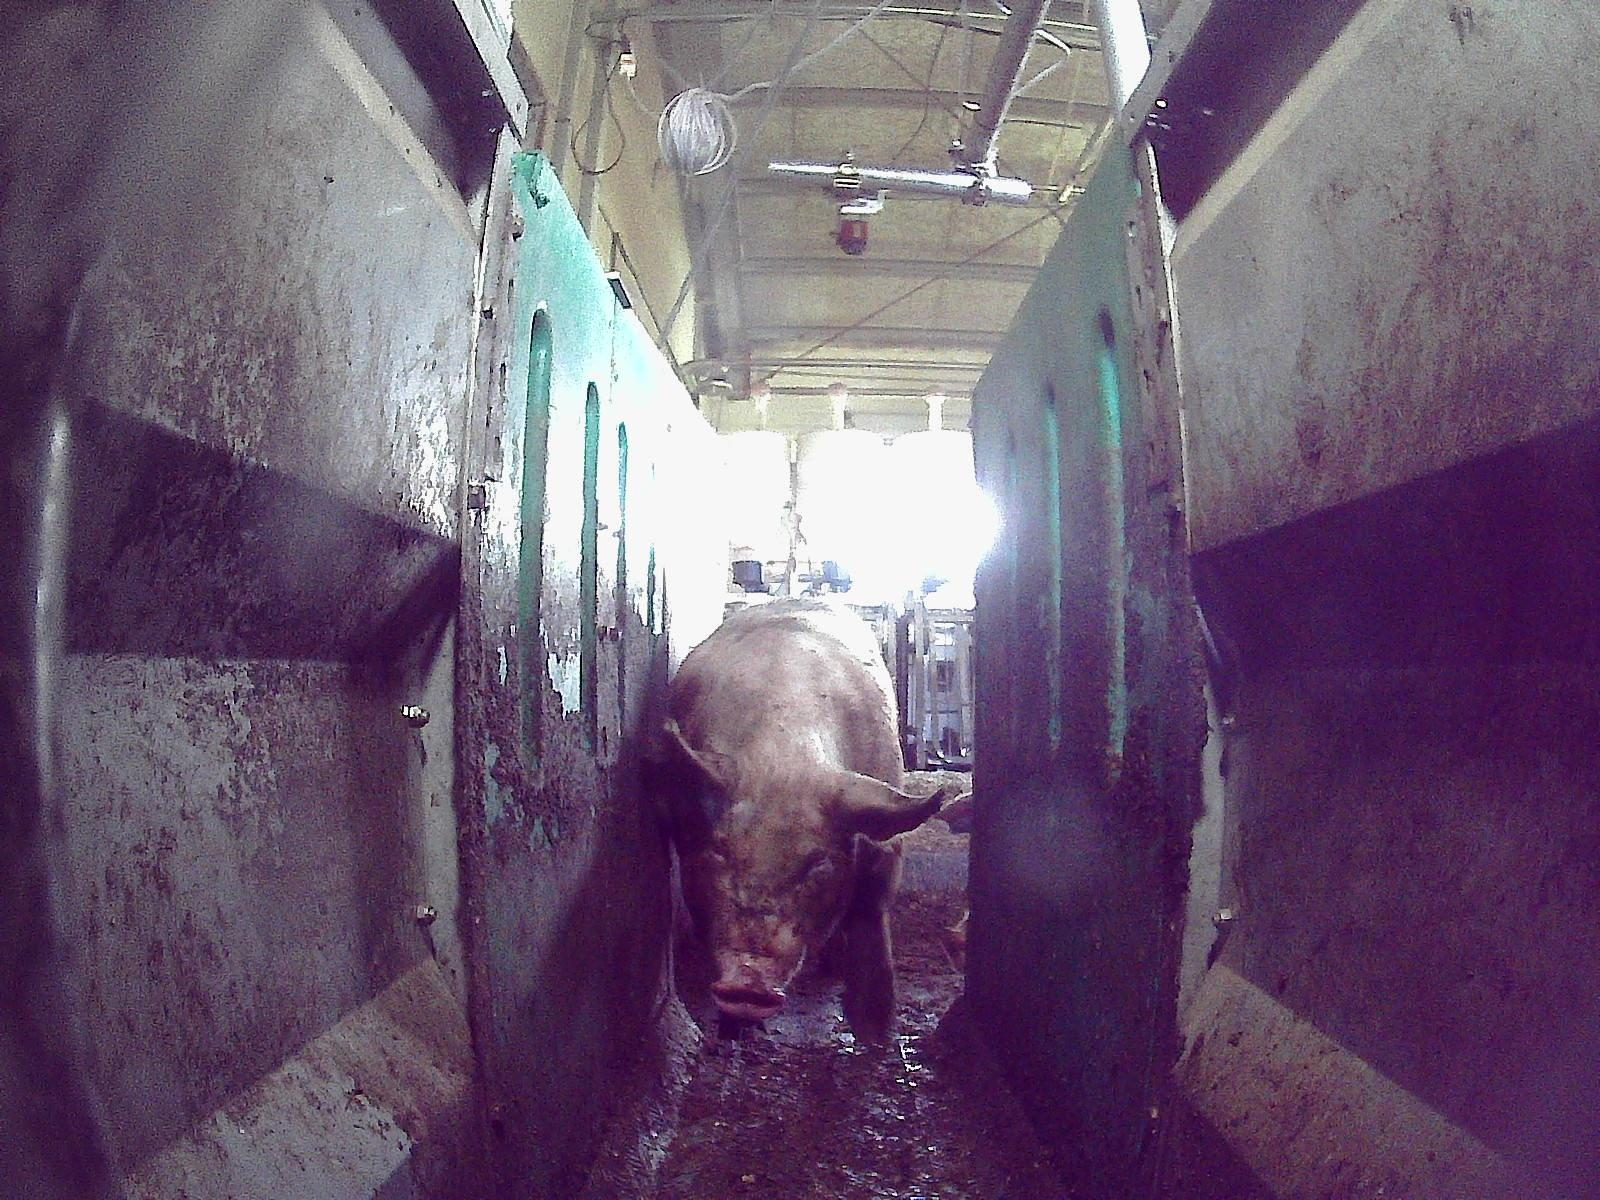Face: (675, 761, 846, 1018)
